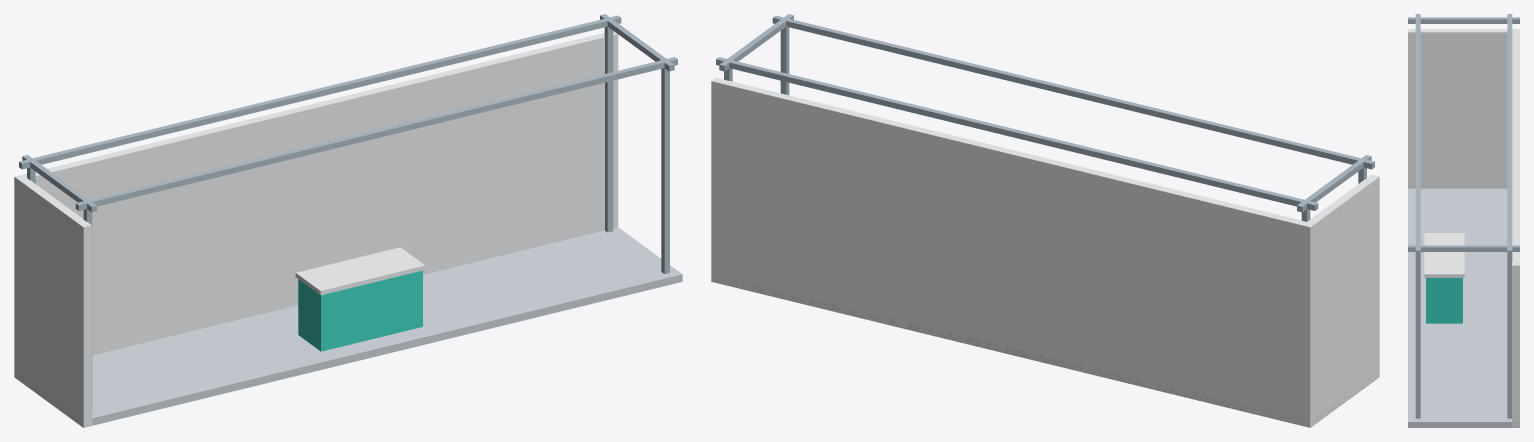
The picture shows the model from 3 angles, left to right: view 1: azimuth 30°, elevation 25°; view 2: azimuth 150°, elevation 25°; view 3: azimuth 270°, elevation 25°; orthographic projection. The views are drawn at different scales.
Visible parts, largest first — view 1: Exhibition Booth Concept; view 2: Exhibition Booth Concept; view 3: Exhibition Booth Concept.
Boxes of the visible parts, x1,y1,x2,y2 form: Exhibition Booth Concept: (14,14,682,427); Exhibition Booth Concept: (711,14,1379,427); Exhibition Booth Concept: (1408,14,1519,427).
Bounding box in the file's own units: 10 × 3.49 × 2.
